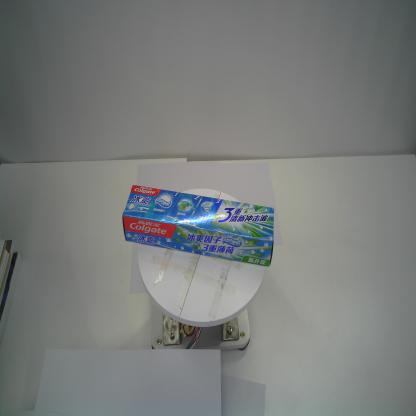Personal Hygiene: (121, 183, 276, 268)
